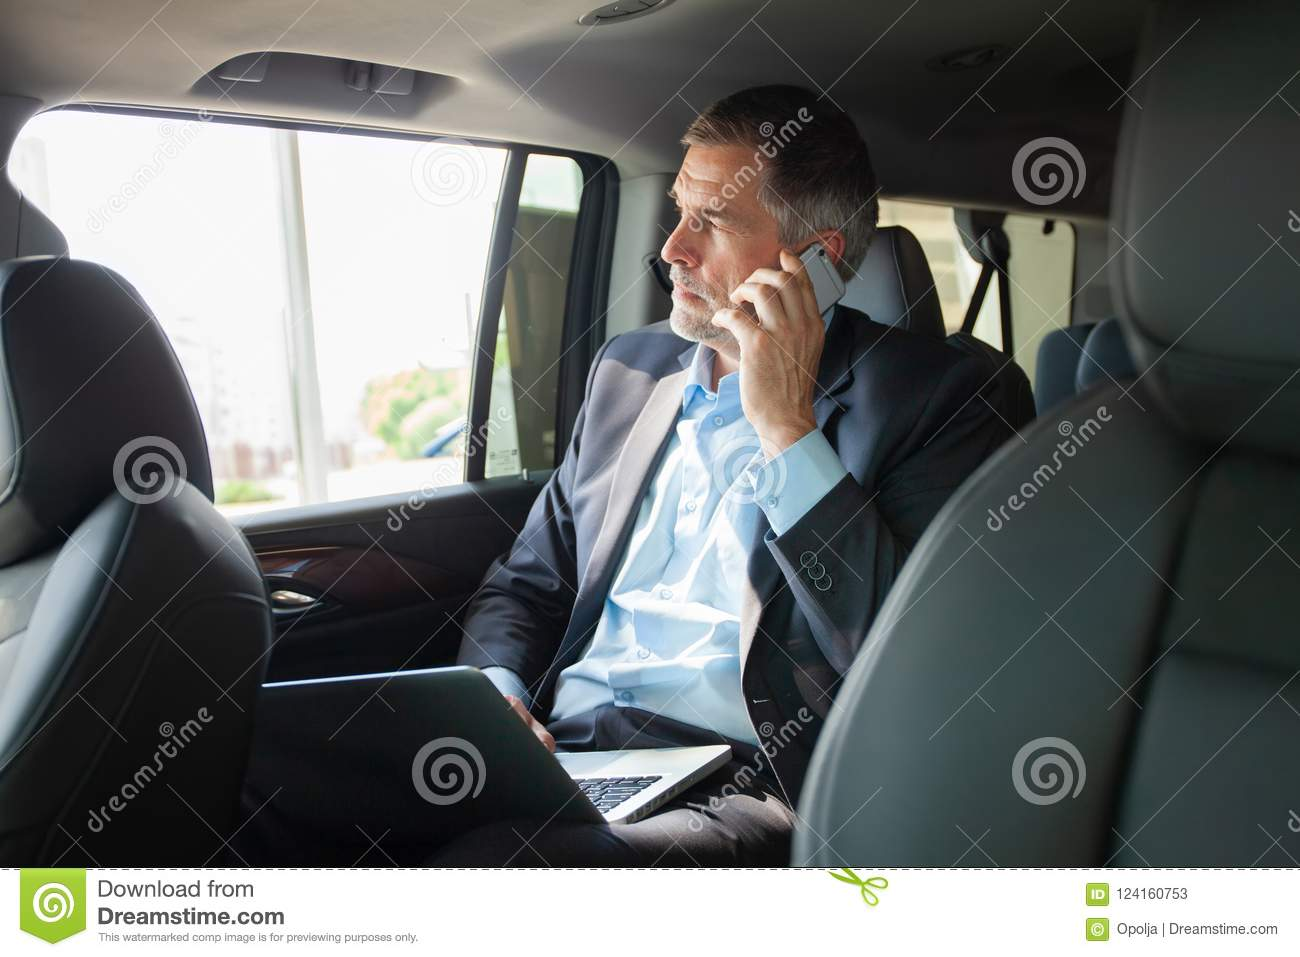phone: (736, 240, 847, 336)
talk: (660, 189, 848, 432)
